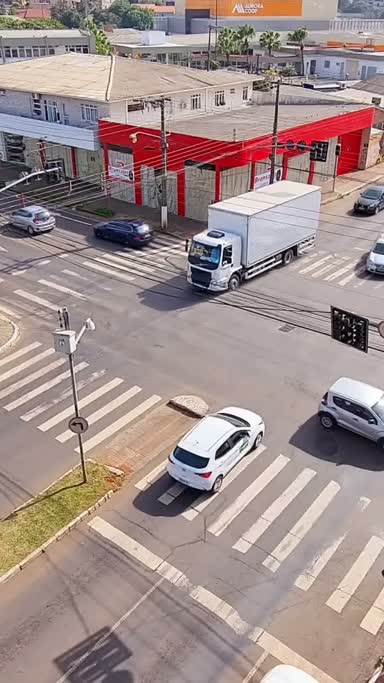car: (163, 400, 268, 504), (320, 365, 384, 447), (86, 208, 160, 251), (9, 199, 55, 239), (348, 176, 381, 226), (361, 234, 384, 279)
truck: (184, 182, 327, 295)
